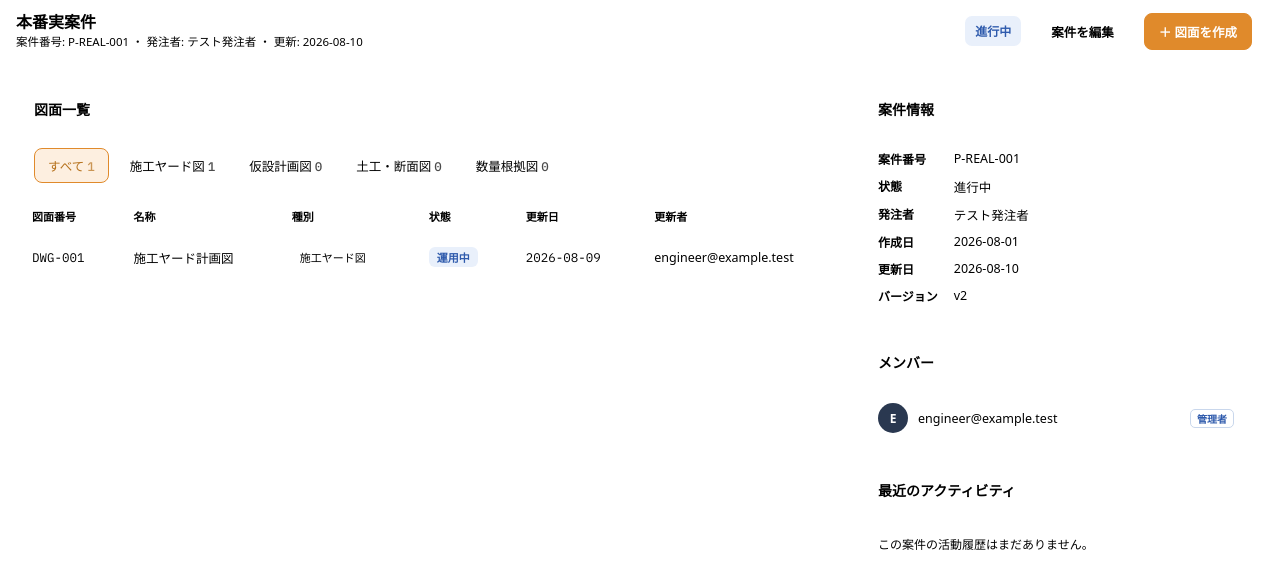
Test: ProjectDetailCloudPage › 案件編集 API を expectedVersion 付きで呼び、更新後の案件名を表示する
Check: the text "本番実案件" is shown, box [16, 11, 96, 33]
Click the button "案件を編集": (1082, 31) [1037, 14, 1128, 48]
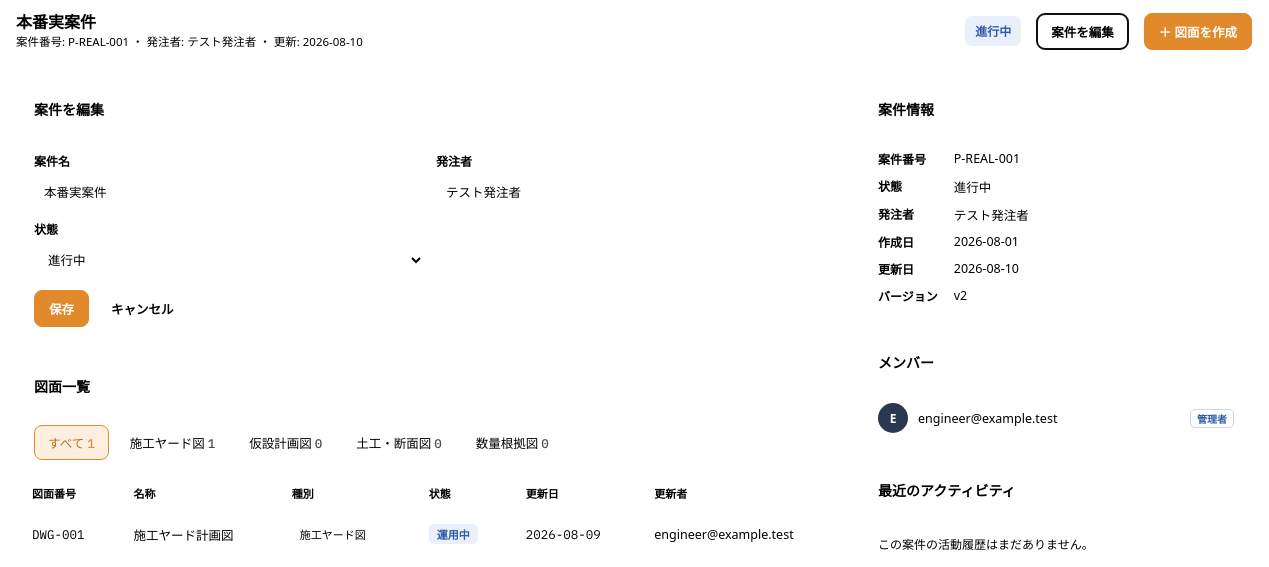
Replace the text in the field showing "本番実案件" with "本番実案件（更新）": (229, 192) [34, 175, 424, 208]
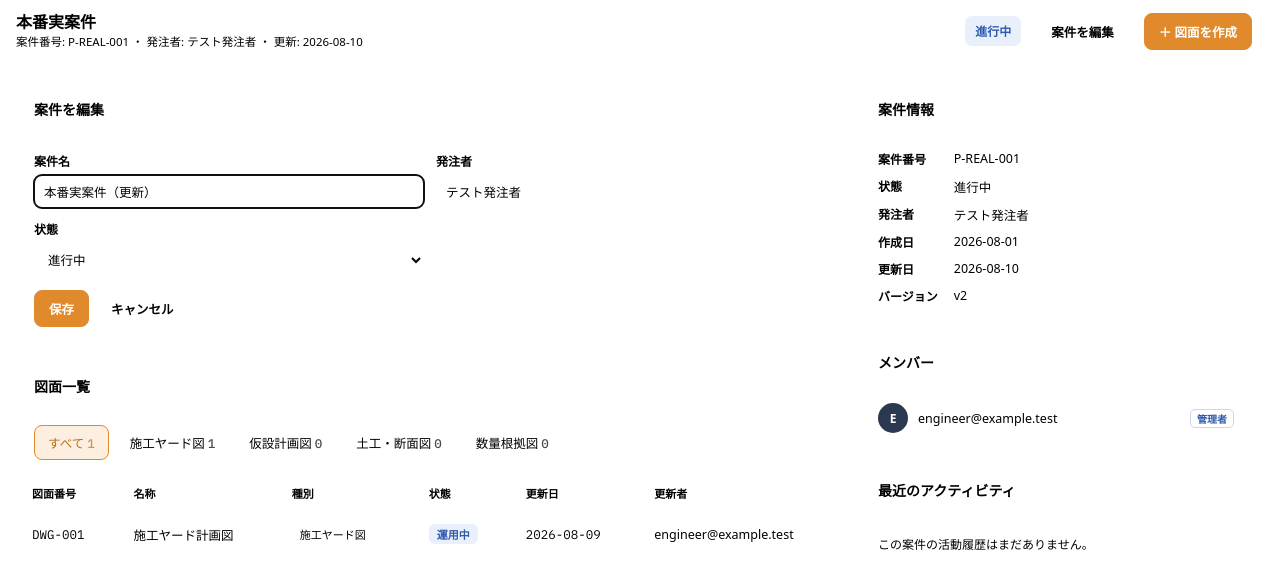
Click the button "保存": (62, 308) [34, 290, 89, 327]
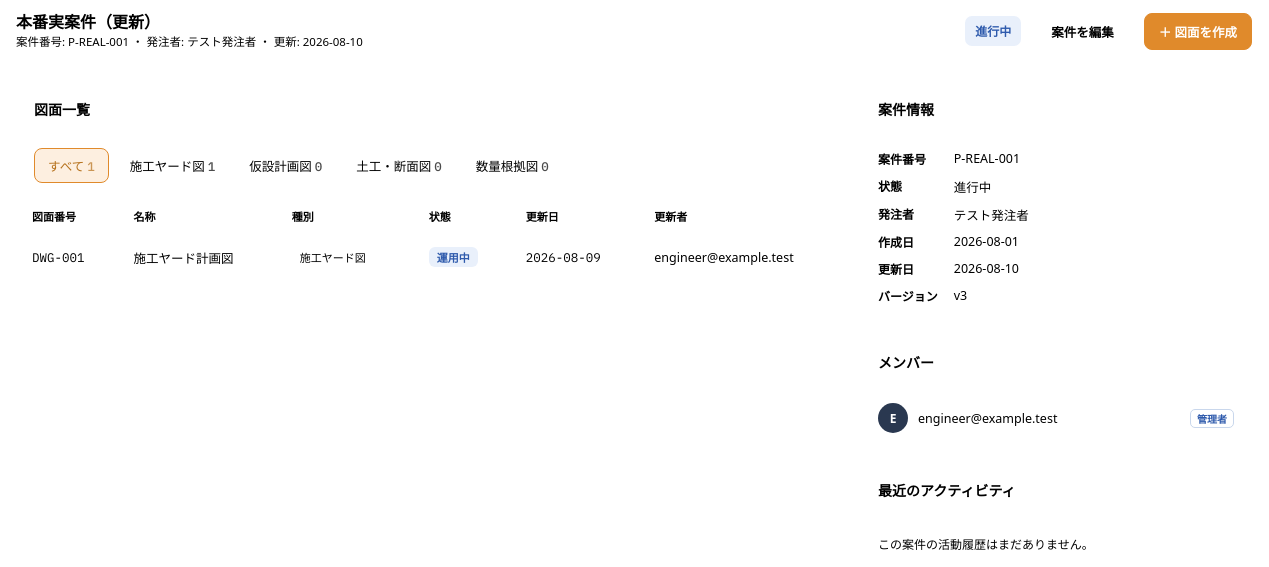
Check: the text "本番実案件（更新）" is shown, box [16, 11, 160, 33]
